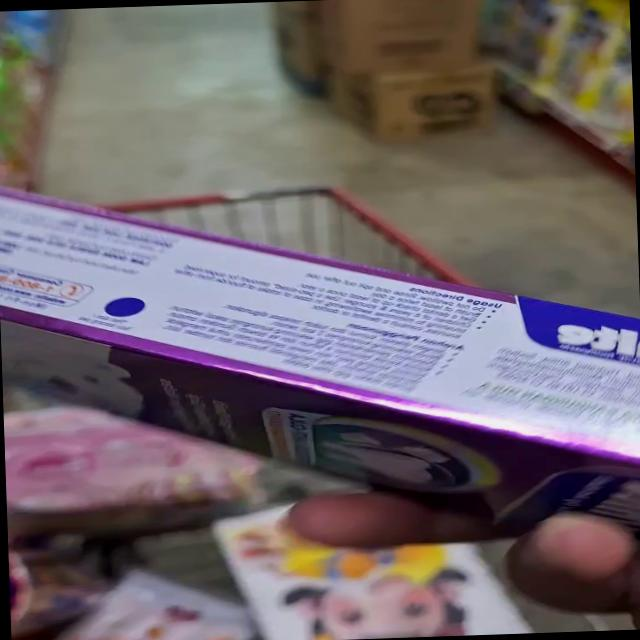Tisu: (221, 508, 532, 640)
Ubat Gigi: (208, 275, 640, 481), (0, 225, 426, 394), (0, 185, 221, 355)
